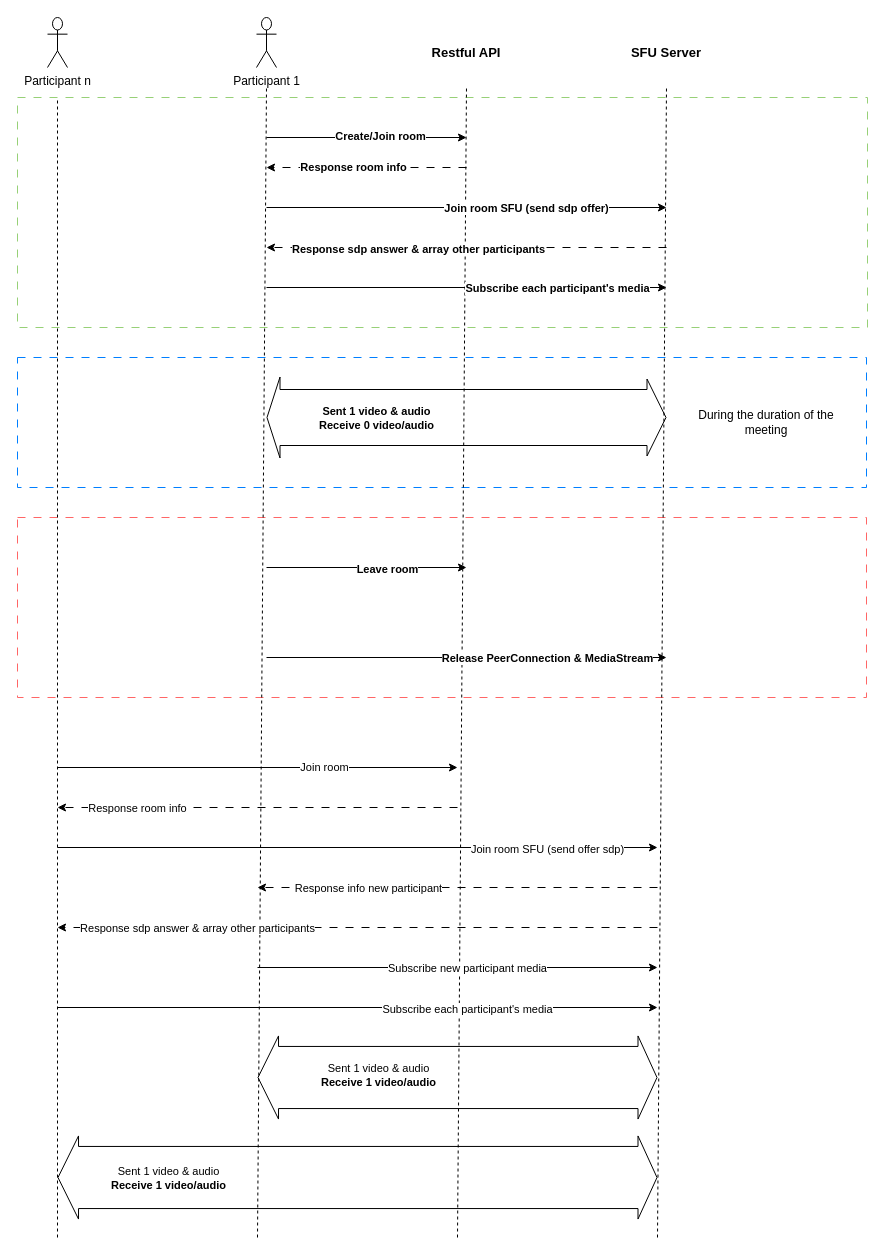
The diagram is 885 pixels wide and 1256 high, and some of its shapes have lost their labels. The shapes that lost their labels are listed below. From the top down, each one's box as (x1, y1, x2, y2) in pixels, then its label:
(16, 96, 868, 328): Authorize & Establish room, connections
(16, 516, 866, 698): Leave room & Release resources (MediaStream,...)
